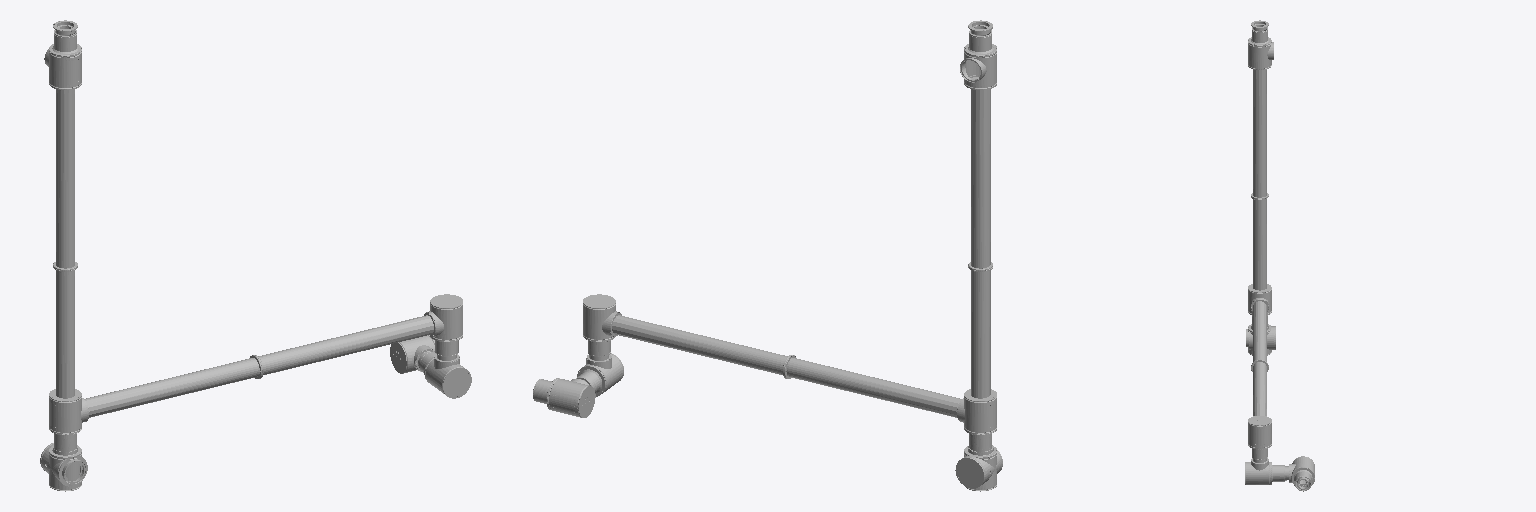
URDF robot description (urdf0):
<?xml version="1.0" encoding="utf-8"?>
<!-- This URDF was automatically created by SolidWorks to URDF Exporter! Originally created by [author] ([email redacted]) 
     Commit Version: 1.6.0-4-g7f85cfe  Build Version: 1.6.7995.38578
     For more information, please see http://wiki.ros.org/sw_urdf_exporter 111-->
<robot
  name="urdf0">
  <link
    name="base_link">
    <!-- <inertial>
      <origin
        xyz="8.7299E-06 0.00011054 0.069201"
        rpy="0 0 0" />
      <mass
        value="5.0287" />
      <inertia
        ixx="0.016781"
        ixy="2.5869E-06"
        ixz="-9.7088E-07"
        iyy="0.016813"
        iyz="-1.2293E-05"
        izz="0.028424" />
    </inertial> -->
    <visual>
      <origin
        xyz="0 0 0"
        rpy="0 0 0" />
      <geometry>
        <mesh
          filename="package://urdf0/meshes/base_link.STL" />
      </geometry>
      <material
        name="">
        <color
          rgba="0.75294 0.75294 0.75294 1" />
      </material>
    </visual>
    <collision>
      <origin
        xyz="0 0 0"
        rpy="0 0 0" />
      <geometry>
        <mesh
          filename="package://urdf0/meshes/base_link.STL" />
      </geometry>
    </collision>
  </link>
  <link
    name="Link1">
    <inertial>
      <origin
        xyz="-2.041E-05 0.011302 0.065522"
        rpy="0 0 0" />
      <mass
        value="55.744" />
      <inertia
        ixx="0.72781"
        ixy="-6.083E-06"
        ixz="-2.129E-07"
        iyy="0.92755"
        iyz="0.022055"
        izz="1.0452" />
    </inertial>
    <visual>
      <origin
        xyz="0 0 0"
        rpy="0 0 0" />
      <geometry>
        <mesh
          filename="package://urdf0/meshes/Link1.STL" />
      </geometry>
      <material
        name="">
        <color
          rgba="0.75294 0.75294 0.75294 1" />
      </material>
    </visual>
    <collision>
      <origin
        xyz="0 0 0"
        rpy="0 0 0" />
      <geometry>
        <mesh
          filename="package://urdf0/meshes/Link1.STL" />
      </geometry>
    </collision>
  </link>
  <joint
    name="joint1"
    type="continuous">
    <origin
      xyz="0 0 0"
      rpy="0 0 0" />
    <parent
      link="base_link" />
    <child
      link="Link1" />
    <axis
      xyz="0 0 1" />
    <hardware id="0" type="driver">
            <limit lower="-0.0001" upper="0.0001"  vel="3.0" acc="10.0" jerk="150.0" effort="30.0"/>
            <transform ratio="1.0" offset_pos_cnt="-[number redacted]" cnt_per_unit="140184287.42160" torque_per_unit="1.0"
                       user_unit_name="rad"/>
             <inputs name="Inputs">
                <status_word>Statusword</status_word>
                <position_actual_value>Position actual value</position_actual_value>
                <velocity_actual_value>Velocity actual value</velocity_actual_value>
                <torque_actual_value>Torque actual value</torque_actual_value>
                <load_torque_value>Analog Input 1</load_torque_value>
                <secondary_position_value>Auxiliary position actual value</secondary_position_value>
                <secondary_velocity_value>Secondary velocity value</secondary_velocity_value>
            </inputs>
            <outputs name="Outputs">
                <control_word>Controlword</control_word>
                <mode_of_operation>Modes of operation</mode_of_operation>
                <target_position>Target position</target_position>
                <target_velocity>Target velocity</target_velocity>
                <target_torque>Target torque</target_torque>
            </outputs>        
        </hardware>
  </joint>
  <link
    name="Link2">
    <inertial>
      <origin
        xyz="1.2631E-05 -0.009987 0.099695"
        rpy="0 0 0" />
      <mass
        value="63.019" />
      <inertia
        ixx="0.76516"
        ixy="4.9711E-06"
        ixz="5.2419E-06"
        iyy="0.96484"
        iyz="-0.022055"
        izz="1.1145" />
    </inertial>
    <visual>
      <origin
        xyz="0 0 0"
        rpy="0 0 0" />
      <geometry>
        <mesh
          filename="package://urdf0/meshes/Link2.STL" />
      </geometry>
      <material
        name="">
        <color
          rgba="0.75294 0.75294 0.75294 1" />
      </material>
    </visual>
    <collision>
      <origin
        xyz="0 0 0"
        rpy="0 0 0" />
      <geometry>
        <mesh
          filename="package://urdf0/meshes/Link2.STL" />
      </geometry>
    </collision>
  </link>
  <joint
    name="joint2"
    type="continuous">
    <origin
      xyz="0 0 0"
      rpy="0 0 0" />
    <parent
      link="Link1" />
    <child
      link="Link2" />
    <axis
      xyz="0 0 1" />
    <hardware id="1" type="driver">
            <!-- <limit lower="-2.22" upper="2.22" vel="3.0" acc="10.0" jerk="150.0" effort="30.0" /> -->
            <!-- <transform ratio="1.0" offset_pos_cnt="6179790" cnt_per_unit="140184287.42160" torque_per_unit="1.0" user_unit_name="rad"/> -->
            <limit lower="-0.001" upper="0.001" vel="3.0" acc="10.0" jerk="150.0" effort="30.0" />
            <transform ratio="1.0" offset_pos_cnt="14293200" cnt_per_unit="140184287.42160" torque_per_unit="1.0" user_unit_name="rad"/>
            <inputs name="Inputs">
                <status_word>Statusword</status_word>
                <position_actual_value>Position actual value</position_actual_value>
                <velocity_actual_value>Velocity actual value</velocity_actual_value>
                <torque_actual_value>Torque actual value</torque_actual_value>
                <load_torque_value>Analog Input 1</load_torque_value>
                <secondary_position_value>Auxiliary position actual value</secondary_position_value>
                <secondary_velocity_value>Secondary velocity value</secondary_velocity_value>
            </inputs>
            <outputs name="Outputs">
                <control_word>Controlword</control_word>
                <mode_of_operation>Modes of operation</mode_of_operation>
                <target_position>Target position</target_position>
                <target_velocity>Target velocity</target_velocity>
                <target_torque>Target torque</target_torque>
            </outputs>  
        </hardware>
  </joint>
  <link
    name="Link3">
    <inertial>
      <origin
        xyz="7.9595E-05 0.0035265 2.4959"
        rpy="0 0 0" />
      <mass
        value="212.87" />
      <inertia
        ixx="27.578"
        ixy="-0.0011073"
        ixz="-0.00024036"
        iyy="28.074"
        iyz="9.7846E-05"
        izz="2.9769" />
    </inertial>
    <visual>
      <origin
        xyz="0 0 0"
        rpy="0 0 0" />
      <geometry>
        <mesh
          filename="package://urdf0/meshes/Link3.STL" />
      </geometry>
      <material
        name="">
        <color
          rgba="0.75294 0.75294 0.75294 1" />
      </material>
    </visual>
    <collision>
      <origin
        xyz="0 0 0"
        rpy="0 0 0" />
      <geometry>
        <mesh
          filename="package://urdf0/meshes/Link3.STL" />
      </geometry>
    </collision>
  </link>
  <joint
    name="joint3"
    type="continuous">
    <origin
      xyz="0 0 0"
      rpy="0 0 0" />
    <parent
      link="Link2" />
    <child
      link="Link3" />
    <axis
      xyz="0 0 1" />
    <hardware id="2" type="driver">
            <limit lower="-0.0001" upper="0.0001" vel="3.0" acc="10.0" jerk="150.0" effort="30.0" />
            <transform ratio="1.0" offset_pos_cnt="20729290" cnt_per_unit="140184287.42160" torque_per_unit="1.0" user_unit_name="rad"/>
            <inputs name="Inputs">
                <status_word>Statusword</status_word>
                <position_actual_value>Position actual value</position_actual_value>
                <velocity_actual_value>Velocity actual value</velocity_actual_value>
                <torque_actual_value>Torque actual value</torque_actual_value>
                <load_torque_value>Analog Input 1</load_torque_value>
                <secondary_position_value>Auxiliary position actual value</secondary_position_value>
                <secondary_velocity_value>Secondary velocity value</secondary_velocity_value>
            </inputs>
            <outputs name="Outputs">
                <control_word>Controlword</control_word>
                <mode_of_operation>Modes of operation</mode_of_operation>
                <target_position>Target position</target_position>
                <target_velocity>Target velocity</target_velocity>
                <target_torque>Target torque</target_torque>
            </outputs>  
        </hardware>
  </joint>
  <link
    name="Link4">
    <inertial>
      <origin
        xyz="0 0 0"
        rpy="0 0 0" />
      <mass
        value="226.93" />
      <inertia
        ixx="2.9105"
        ixy="9.9422E-06"
        ixz="-1.2269E-13"
        iyy="27.692"
        iyz="2.038E-14"
        izz="28.391" />
    </inertial>
    <visual>
      <origin
        xyz="0 0 0"
        rpy="0 0 0" />
      <geometry>
        <mesh
          filename="package://urdf0/meshes/Link4.STL" />
      </geometry>
      <material
        name="">
        <color
          rgba="0.75294 0.75294 0.75294 1" />
      </material>
    </visual>
    <collision>
      <origin
        xyz="0 0 0"
        rpy="0 0 0" />
      <geometry>
        <mesh
          filename="package://urdf0/meshes/Link4.STL" />
      </geometry>
    </collision>
  </link>
  <joint
    name="joint4"
    type="continuous">
    <origin
      xyz="0 0 0"
      rpy="0 0 0" />
    <parent
      link="Link3" />
    <child
      link="Link4" />
    <axis
      xyz="0 0 1" />
    <hardware id="3" type="driver">
            <limit lower="-2.23" upper="2.23" vel="3.0" acc="10.0" jerk="150.0" effort="30.0" />
            <transform ratio="1.0" offset_pos_cnt="24045160" cnt_per_unit="140184287.42160" torque_per_unit="1.0" user_unit_name="rad"/>
            <inputs name="Inputs">
                <status_word>Statusword</status_word>
                <position_actual_value>Position actual value</position_actual_value>
                <velocity_actual_value>Velocity actual value</velocity_actual_value>
                <torque_actual_value>Torque actual value</torque_actual_value>
                <load_torque_value>Analog Input 1</load_torque_value>
                <secondary_position_value>Auxiliary position actual value</secondary_position_value>
                <secondary_velocity_value>Secondary velocity value</secondary_velocity_value>
            </inputs>
            <outputs name="Outputs">
                <control_word>Controlword</control_word>
                <mode_of_operation>Modes of operation</mode_of_operation>
                <target_position>Target position</target_position>
                <target_velocity>Target velocity</target_velocity>
                <target_torque>Target torque</target_torque>
            </outputs>  
        </hardware>
  </joint>
  <link
    name="Link5">
    <inertial>
      <origin
        xyz="1.2631E-05 -0.099695 -0.009987"
        rpy="0 0 0" />
      <mass
        value="63.019" />
      <inertia
        ixx="0.76516"
        ixy="-5.2419E-06"
        ixz="4.9711E-06"
        iyy="1.1145"
        iyz="0.022055"
        izz="0.96484" />
    </inertial>
    <visual>
      <origin
        xyz="0 0 0"
        rpy="0 0 0" />
      <geometry>
        <mesh
          filename="package://urdf0/meshes/Link5.STL" />
      </geometry>
      <material
        name="">
        <color
          rgba="0.75294 0.75294 0.75294 1" />
      </material>
    </visual>
    <collision>
      <origin
        xyz="0 0 0"
        rpy="0 0 0" />
      <geometry>
        <mesh
          filename="package://urdf0/meshes/Link5.STL" />
      </geometry>
    </collision>
  </link>
  <joint
    name="joint5"
    type="continuous">
    <origin
      xyz="4.44 0 -0.035"
      rpy="3.1416 0 0" />
    <parent
      link="Link4" />
    <child
      link="Link5" />
    <axis
      xyz="0 0 1" />
    <hardware id="4" type="driver">
            <limit lower="-2.71" upper="2.71" vel="3.0" acc="10.0" jerk="150.0" effort="30.0" />
            <transform ratio="1.0" offset_pos_cnt="-[number redacted]" cnt_per_unit="140184287.42160" torque_per_unit="1.0" user_unit_name="rad"/>
            <inputs name="Inputs">
                <status_word>Statusword</status_word>
                <position_actual_value>Position actual value</position_actual_value>
                <velocity_actual_value>Velocity actual value</velocity_actual_value>
                <torque_actual_value>Torque actual value</torque_actual_value>
                <load_torque_value>Analog Input 1</load_torque_value>
                <secondary_position_value>Auxiliary position actual value</secondary_position_value>
                <secondary_velocity_value>Secondary velocity value</secondary_velocity_value>
            </inputs>
            <outputs name="Outputs">
                <control_word>Controlword</control_word>
                <mode_of_operation>Modes of operation</mode_of_operation>
                <target_position>Target position</target_position>
                <target_velocity>Target velocity</target_velocity>
                <target_torque>Target torque</target_torque>
            </outputs>  
        </hardware>
  </joint>
  <link
    name="Link6">
    <inertial>
      <origin
        xyz="-2.041E-05 0.065522 -0.011302"
        rpy="0 0 0" />
      <mass
        value="55.744" />
      <inertia
        ixx="0.72781"
        ixy="-2.129E-07"
        ixz="6.083E-06"
        iyy="1.0452"
        iyz="-0.022055"
        izz="0.92755" />
    </inertial>
    <visual>
      <origin
        xyz="0 0 0"
        rpy="0 0 0" />
      <geometry>
        <mesh
          filename="package://urdf0/meshes/Link6.STL" />
      </geometry>
      <material
        name="">
        <color
          rgba="0.75294 0.75294 0.75294 1" />
      </material>
    </visual>
    <collision>
      <origin
        xyz="0 0 0"
        rpy="0 0 0" />
      <geometry>
        <mesh
          filename="package://urdf0/meshes/Link6.STL" />
      </geometry>
    </collision>
  </link>
  <joint
    name="joint6"
    type="continuous">
    <origin
      xyz="0 -0.6115 0"
      rpy="1.5708 1.5708 0" />
    <parent
      link="Link5" />
    <child
      link="Link6" />
    <axis
      xyz="0 0 1" />
    <hardware id="5" type="driver">
            <limit lower="-0.0001" upper="0.0001" vel="3.0" acc="10.0" jerk="150.0" effort="30.0" />
            <transform ratio="1.0" offset_pos_cnt="-1056817" cnt_per_unit="140184287.42160" torque_per_unit="1.0" user_unit_name="rad"/>
            <inputs name="Inputs">
                <status_word>Statusword</status_word>
                <position_actual_value>Position actual value</position_actual_value>
                <velocity_actual_value>Velocity actual value</velocity_actual_value>
                <torque_actual_value>Torque actual value</torque_actual_value>
                <load_torque_value>Analog Input 1</load_torque_value>
                <secondary_position_value>Auxiliary position actual value</secondary_position_value>
                <secondary_velocity_value>Secondary velocity value</secondary_velocity_value>
            </inputs>
            <outputs name="Outputs">
                <control_word>Controlword</control_word>
                <mode_of_operation>Modes of operation</mode_of_operation>
                <target_position>Target position</target_position>
                <target_velocity>Target velocity</target_velocity>
                <target_torque>Target torque</target_torque>
            </outputs>  
        </hardware>
  </joint>
  <link
    name="Link7">
    <inertial>
      <origin
        xyz="-6.0729E-05 -9.277E-05 -0.044384"
        rpy="0 0 0" />
      <mass
        value="5.0287" />
      <inertia
        ixx="0.01679"
        ixy="1.5103E-05"
        ixz="-6.7539E-06"
        iyy="0.016804"
        iyz="-1.0317E-05"
        izz="0.028424" />
    </inertial>
    <visual>
      <origin
        xyz="0 0 0"
        rpy="0 0 0" />
      <geometry>
        <mesh
          filename="package://urdf0/meshes/Link7.STL" />
      </geometry>
      <material
        name="">
        <color
          rgba="0.75294 0.75294 0.75294 1" />
      </material>
    </visual>
    <collision>
      <origin
        xyz="0 0 0"
        rpy="0 0 0" />
      <geometry>
        <mesh
          filename="package://urdf0/meshes/Link7.STL" />
      </geometry>
    </collision>
  </link>
  <joint
    name="joint7"
    type="continuous">
    <origin
      xyz="0 0.3645 0"
      rpy="-1.5708 0 0" />
    <parent
      link="Link6" />
    <child
      link="Link7" />
    <axis
      xyz="0 0 1" />
    <hardware id="6" type="driver">
            <limit lower="-2.84" upper="2.84" vel="3.0" acc="10.0" jerk="150.0" effort="30.0" />
            <transform ratio="1.0" offset_pos_cnt="0" cnt_per_unit="140184287.42160" torque_per_unit="1.0" user_unit_name="rad"/>
            <inputs name="Inputs">
                <status_word>Statusword</status_word>
                <position_actual_value>Position actual value</position_actual_value>
                <velocity_actual_value>Velocity actual value</velocity_actual_value>
                <torque_actual_value>Torque actual value</torque_actual_value>
                <load_torque_value>Analog Input 1</load_torque_value>
                <secondary_position_value>Auxiliary position actual value</secondary_position_value>
                <secondary_velocity_value>Secondary velocity value</secondary_velocity_value>
            </inputs>
            <outputs name="Outputs">
                <control_word>Controlword</control_word>
                <mode_of_operation>Modes of operation</mode_of_operation>
                <target_position>Target position</target_position>
                <target_velocity>Target velocity</target_velocity>
                <target_torque>Target torque</target_torque>
            </outputs>  
        </hardware>
  </joint>
</robot>

--- Facts derived from the render (not from the file) ---
Views: 3 orthographic renders of the robot side by side, from view 1: azimuth 30°, elevation 25°; view 2: azimuth 150°, elevation 25°; view 3: azimuth 270°, elevation 25°.
Robot: urdf0 — 8 links, 7 joints (7 continuous); root link base_link; default pose: every joint at zero.
Links seen in each view (by area): view 1: Link4, Link3, Link5, Link6, Link2, Link1; view 2: Link4, Link3, Link6, Link5; view 3: Link3, Link4, Link5, Link6.
Boxes of the visible links, left/top/right/bottom form: Link4: left=49, top=294, right=462, bottom=449; Link3: left=40, top=20, right=87, bottom=486; Link5: left=416, top=349, right=471, bottom=398; Link6: left=390, top=335, right=434, bottom=373; Link2: left=49, top=435, right=86, bottom=491; Link1: left=46, top=435, right=81, bottom=490; Link4: left=583, top=294, right=996, bottom=449; Link3: left=955, top=20, right=1002, bottom=488; Link6: left=533, top=378, right=595, bottom=417; Link5: left=577, top=353, right=623, bottom=396; Link3: left=1248, top=20, right=1275, bottom=349; Link4: left=1248, top=284, right=1271, bottom=463; Link5: left=1245, top=462, right=1288, bottom=484; Link6: left=1289, top=456, right=1314, bottom=491.
Size in the robot's own frame: 4.97 by 0.9915 by 5.1 metres.
8 mesh visuals loaded from 8 distinct referenced files (8 binary STL).